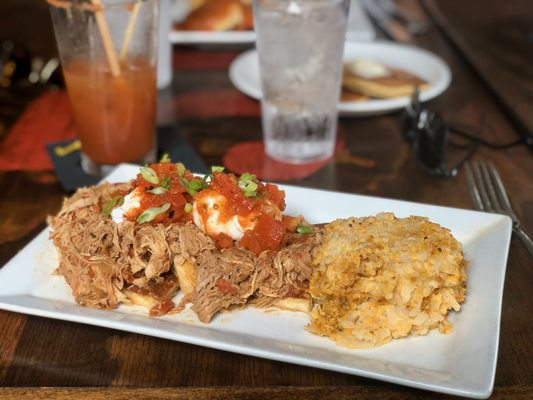burger: (465, 158, 533, 260)
pizza: (46, 0, 161, 174), (252, 0, 352, 179)
